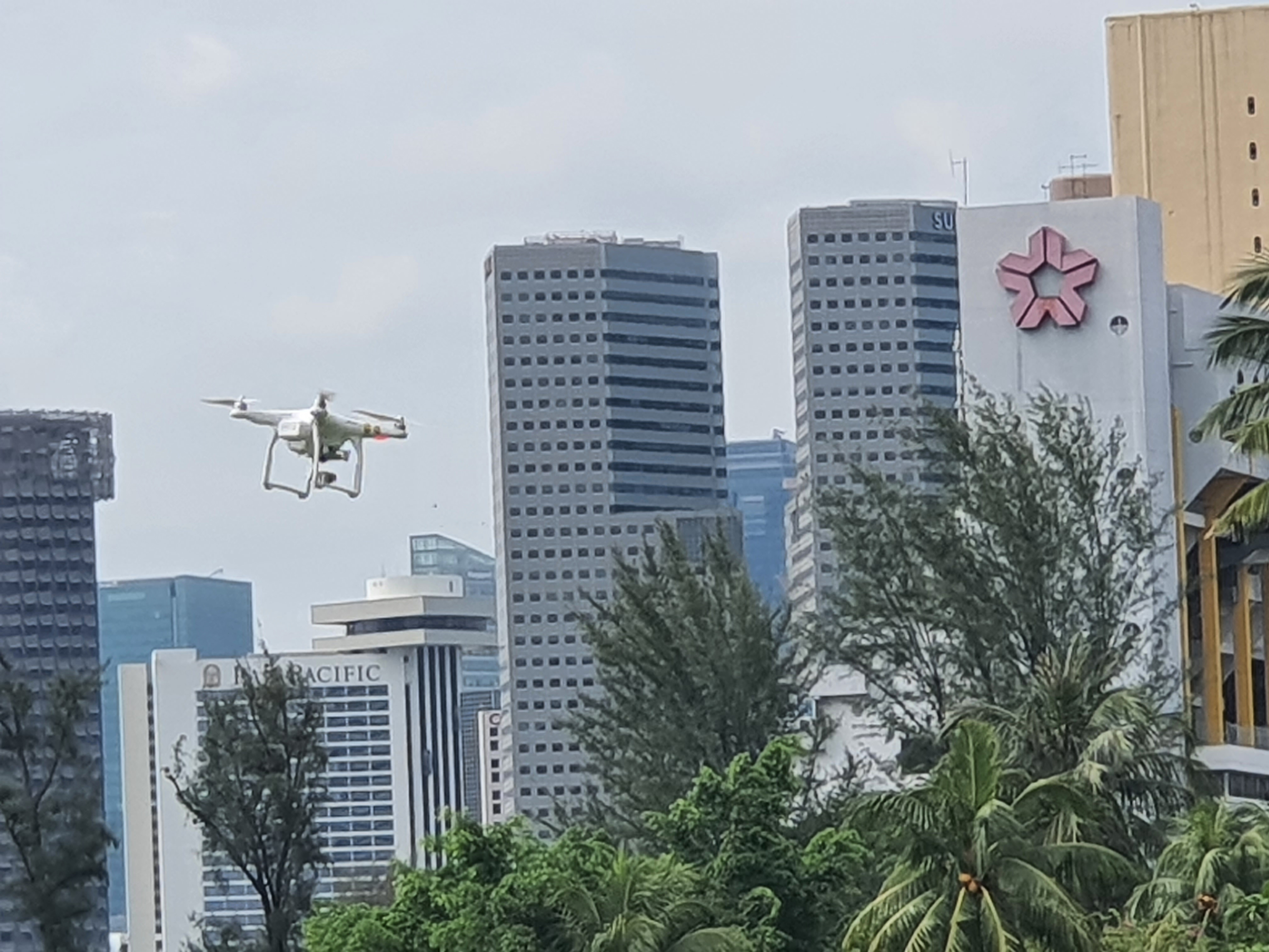drone_other: (195, 386, 409, 503)
